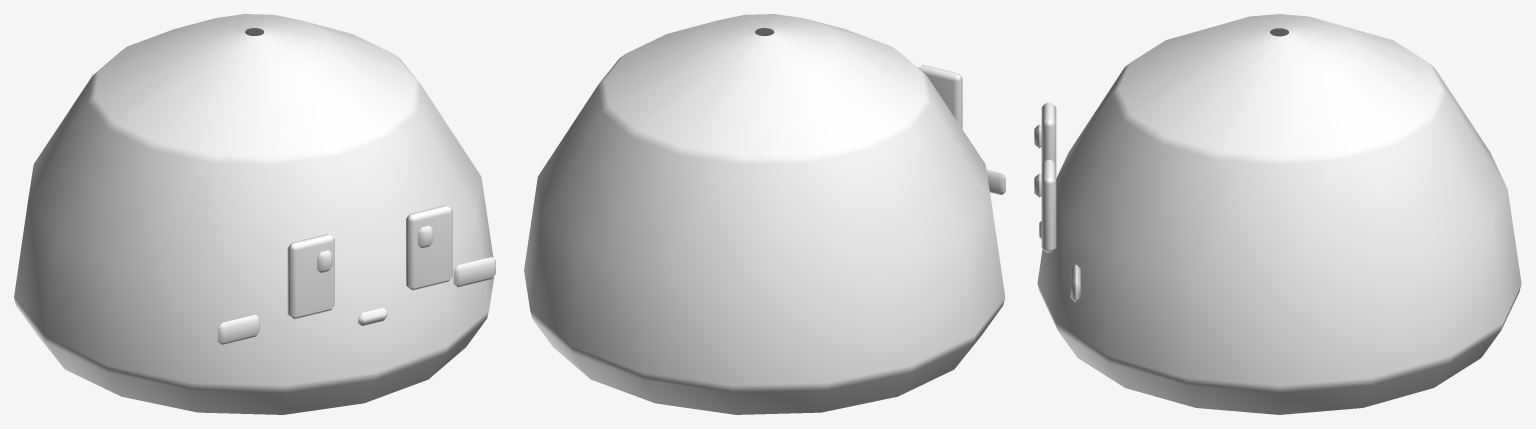
File: jugnu_slime.glb
3 views of the same model, side by side, from view 1: azimuth 30°, elevation 25°; view 2: azimuth 150°, elevation 25°; view 3: azimuth 270°, elevation 25° (orthographic).
Visible parts, largest first — view 1: Body; view 2: Body; view 3: Body.
Boxes of the visible parts, left/top/right/bottom form: Body: left=14, top=14, right=495, bottom=414; Body: left=524, top=14, right=1005, bottom=414; Body: left=1034, top=14, right=1521, bottom=414.
Bounding box in the file's own units: 0.9973 × 0.66 × 1.
Materials: 1 (1 with a texture image).
